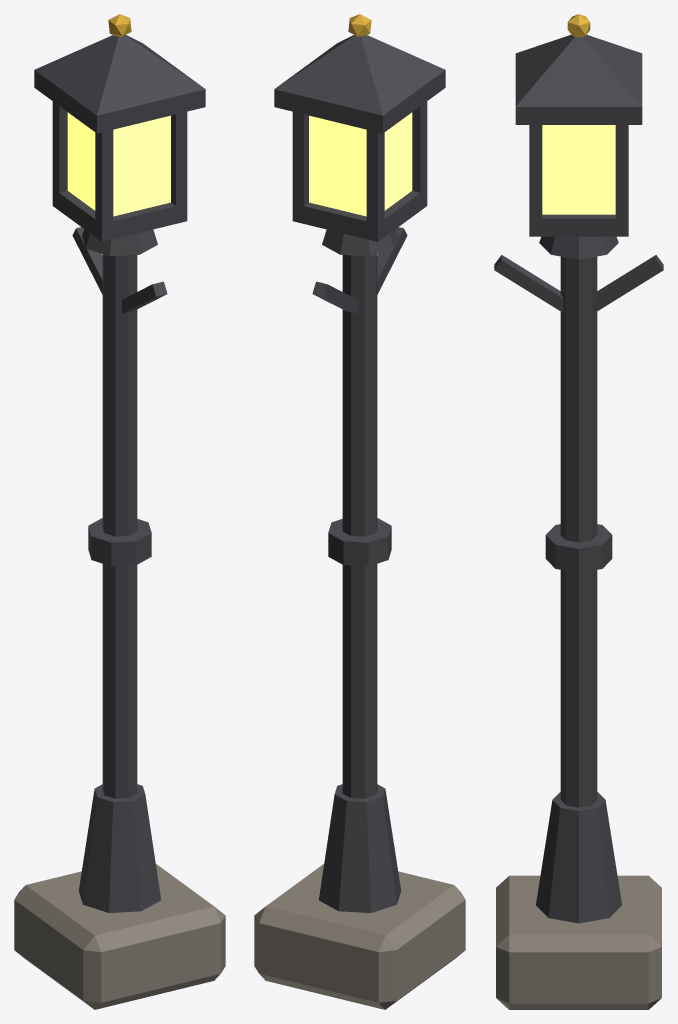
The model's file is Laterne.fbx.
3 views of the same model, side by side, from view 1: azimuth 30°, elevation 25°; view 2: azimuth 150°, elevation 25°; view 3: azimuth 270°, elevation 25° (orthographic).
Visible parts, largest first — view 1: Laterne; view 2: Laterne; view 3: Laterne.
Part boxes in pixels (x1=…): Laterne: x1=14, y1=14, x2=225, y2=1009; Laterne: x1=254, y1=14, x2=465, y2=1009; Laterne: x1=494, y1=14, x2=663, y2=1009.
Bounding box in the file's own units: 0.5 × 3.21 × 0.5102.
